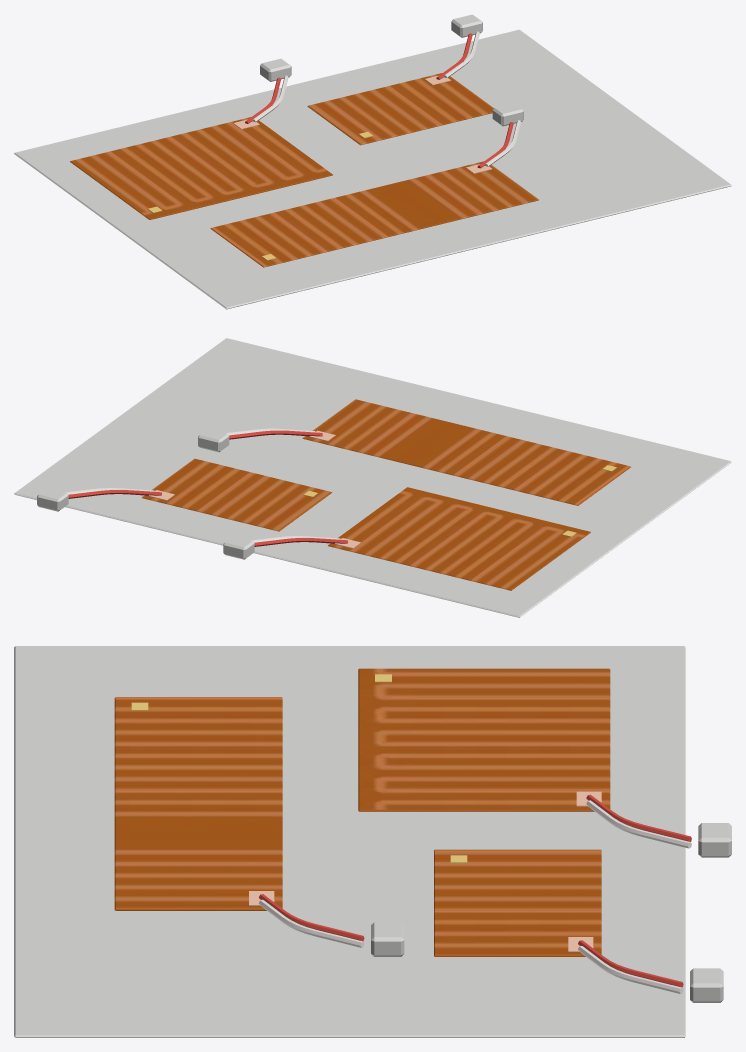
The model's file is heater_pads.glb.
3 views of the same model, one above another, from view 1: azimuth 30°, elevation 25°; view 2: azimuth 150°, elevation 25°; view 3: azimuth 270°, elevation 25° (orthographic). The views are drawn at different scales.
Visible parts, largest first — view 1: heater_pads; view 2: heater_pads; view 3: heater_pads.
Part boxes in pixels (box(x1,y1,x2,y2)): heater_pads: box(14, 14, 731, 309); heater_pads: box(14, 338, 731, 617); heater_pads: box(14, 646, 731, 1037).
Size of the model in its own units: 0.11 by 0.0036 by 0.0855.
6 materials, 1 textured.
